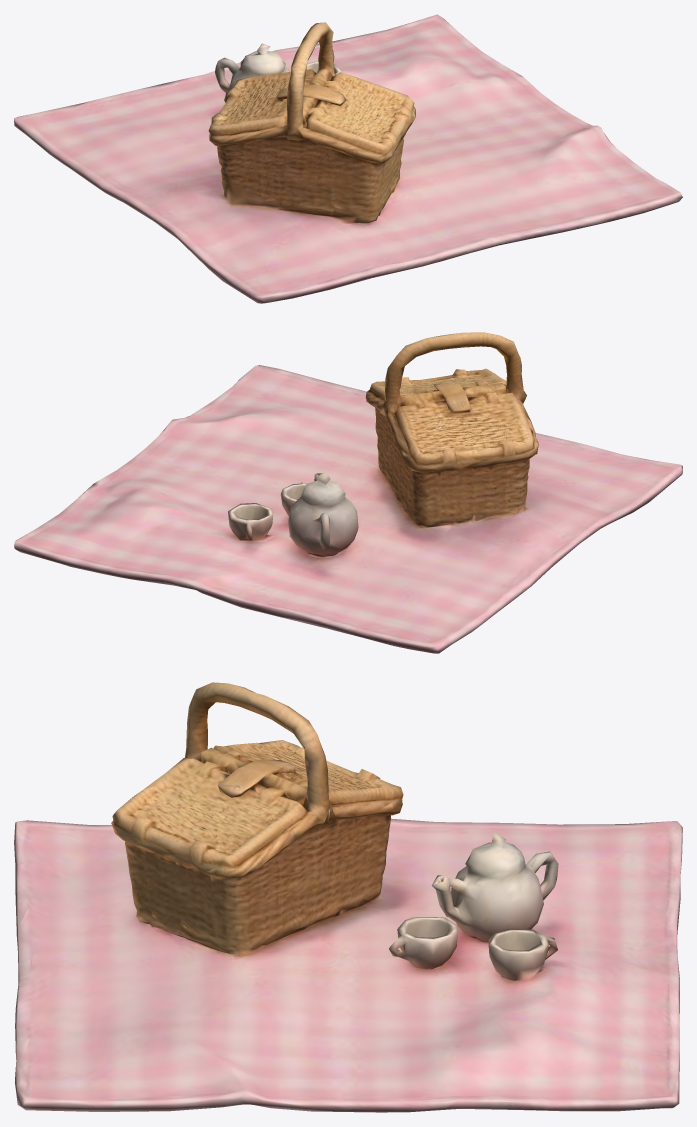
File: deco_picnic.glb
The picture shows the model from 3 angles, top to bottom: view 1: azimuth 30°, elevation 25°; view 2: azimuth 150°, elevation 25°; view 3: azimuth 270°, elevation 25°; orthographic projection. The views are drawn at different scales.
Visible parts, largest first — view 1: tripo_node_99d5f35d-acae-4470-bdf7-2a1f7c5def0e; view 2: tripo_node_99d5f35d-acae-4470-bdf7-2a1f7c5def0e; view 3: tripo_node_99d5f35d-acae-4470-bdf7-2a1f7c5def0e.
Part boxes in pixels (box(x1,y1,x2,y2)): tripo_node_99d5f35d-acae-4470-bdf7-2a1f7c5def0e: box(14, 14, 682, 303); tripo_node_99d5f35d-acae-4470-bdf7-2a1f7c5def0e: box(14, 332, 682, 653); tripo_node_99d5f35d-acae-4470-bdf7-2a1f7c5def0e: box(14, 682, 682, 1112).
Size of the model in its own units: 0.9956 by 0.3886 by 1.
1 material, 1 textured.
